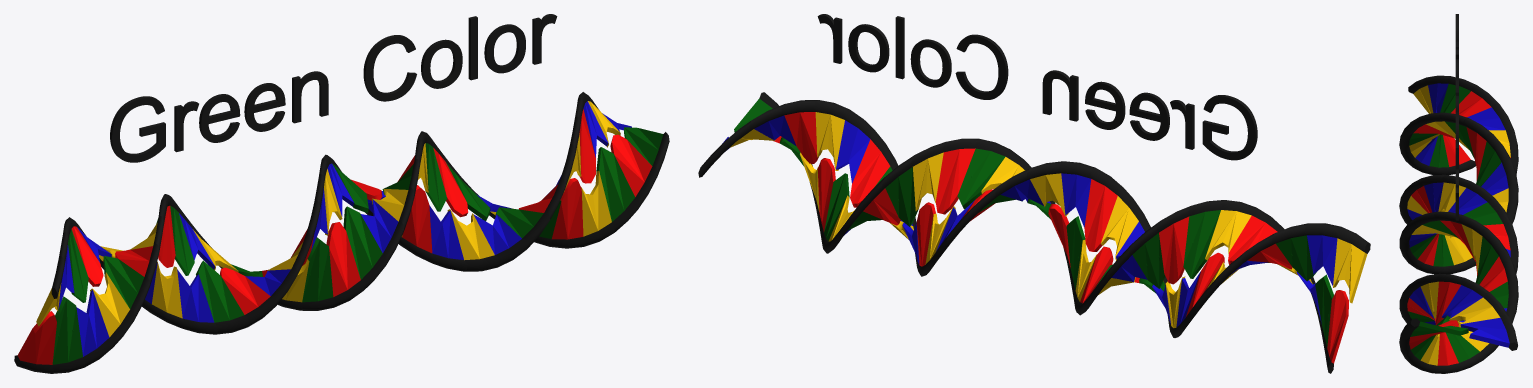
Rendered from Gene_Green.FBX.
The picture shows the model from 3 angles, left to right: view 1: azimuth 30°, elevation 25°; view 2: azimuth 150°, elevation 25°; view 3: azimuth 270°, elevation 25°; orthographic projection. The views are drawn at different scales.
Parts seen in each view (by area): view 1: Group003, Text005; view 2: Group003, Text005; view 3: Group003, Text005.
Part boxes in pixels (x1=…): Group003: x1=14, y1=92, x2=669, y2=373; Text005: x1=110, y1=14, x2=557, y2=162; Group003: x1=698, y1=92, x2=1370, y2=373; Text005: x1=817, y1=14, x2=1257, y2=160; Group003: x1=1399, y1=75, x2=1518, y2=373; Text005: x1=1455, y1=14, x2=1458, y2=220.
Bounding box in the file's own units: 169 × 35.91 × 65.35.
